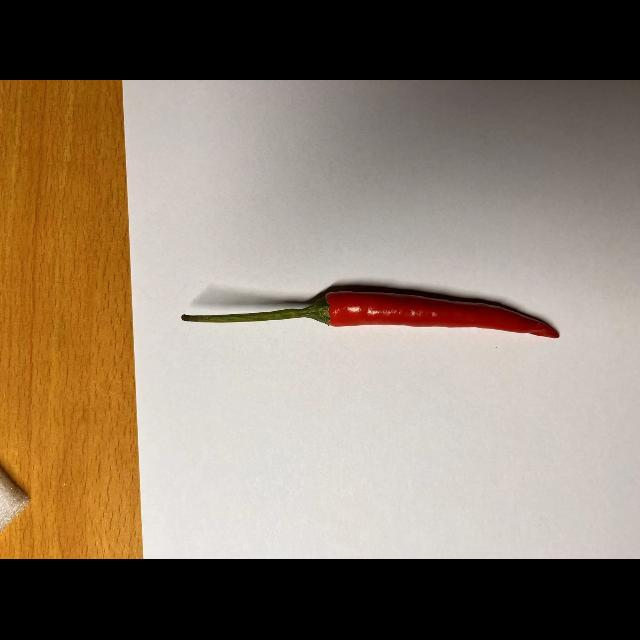chili_pepper: (182, 276, 568, 356)
